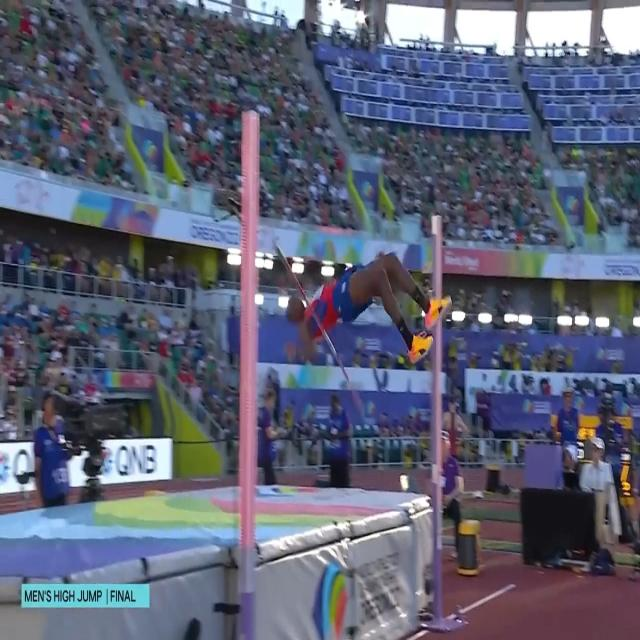land: (271, 249, 453, 365)
